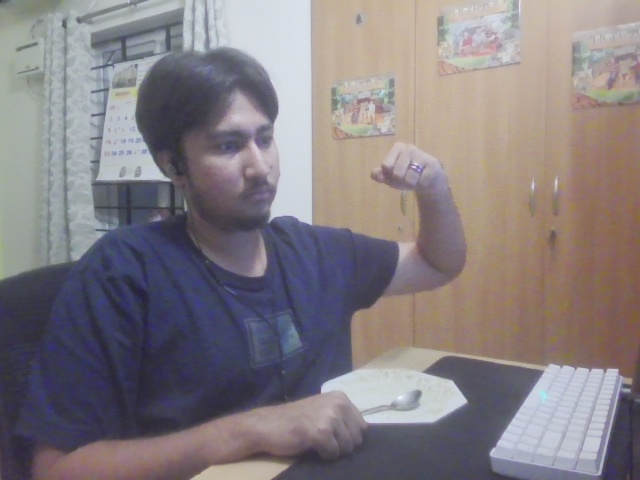yes: (367, 136, 452, 202)
